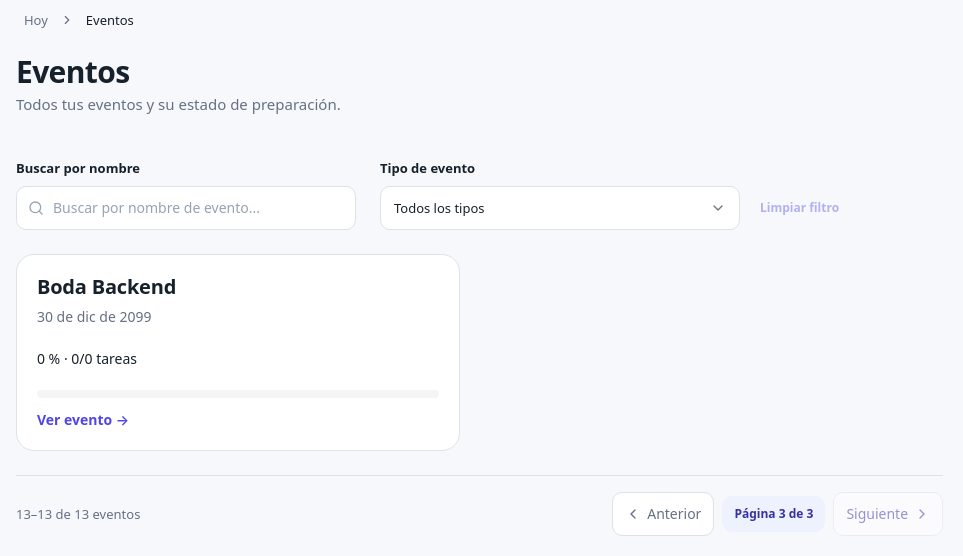
Test: EventsPage › cambiar el tipo reinicia la página y conserva el filtro al paginar
Click the dropdown named "Tipo de evento": (439, 208) 380,186 -> 740,230
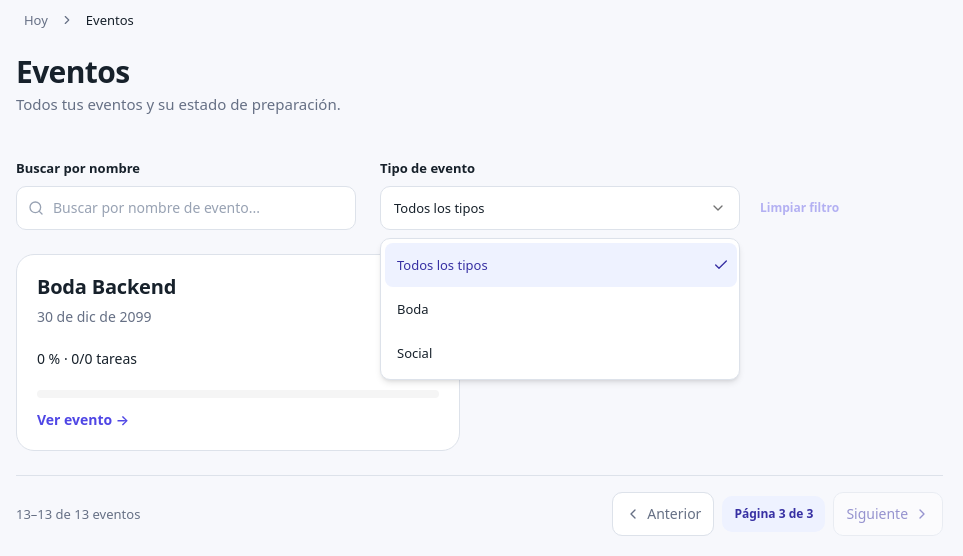
Press Arrowdown
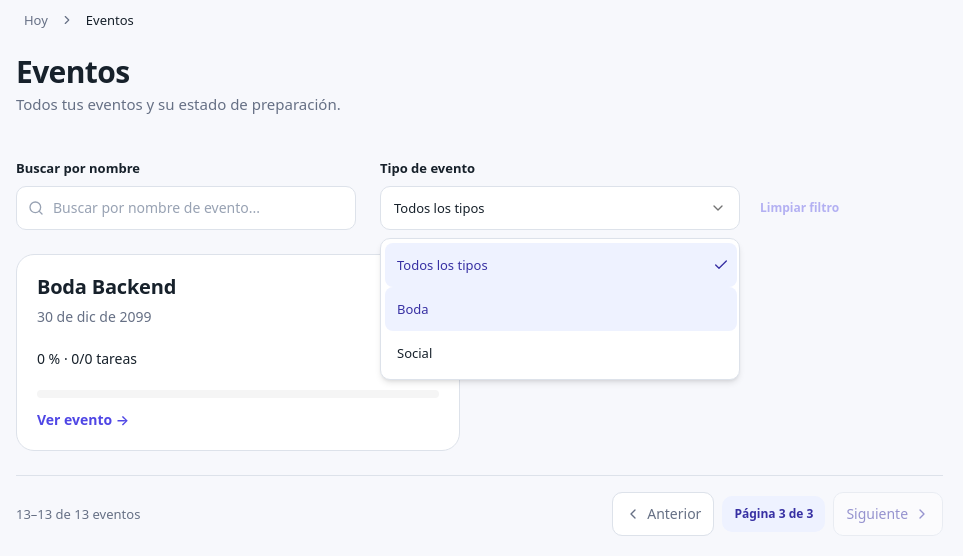
Click the option "Social": (415, 353) 397,344 -> 432,362
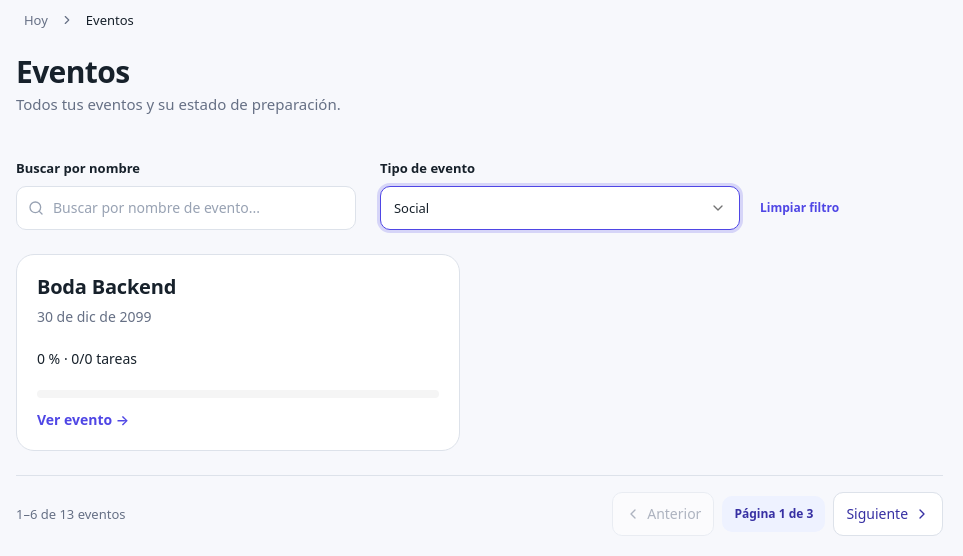
Click the button "Siguiente": (888, 514) 833,492 -> 943,536
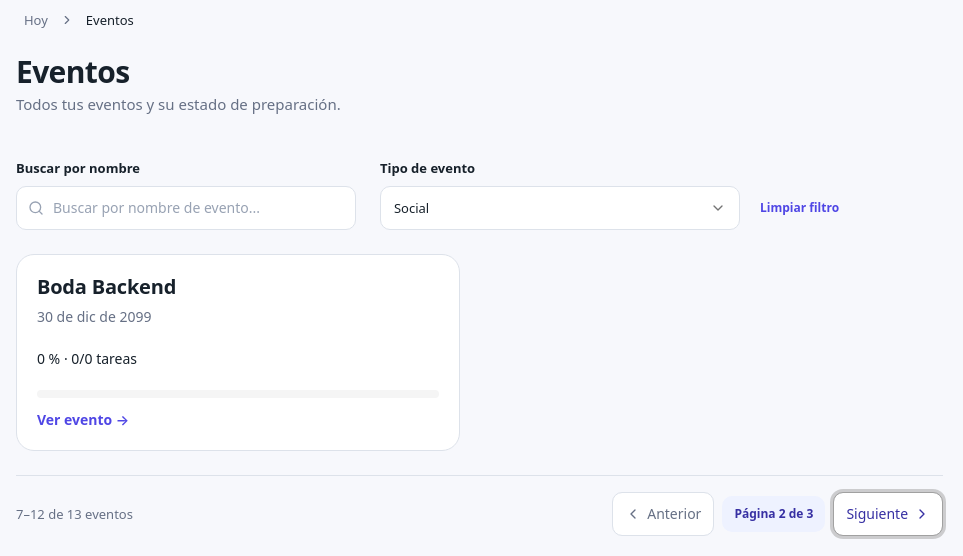
Click the button "Limpiar filtro": (800, 208) 752,186 -> 847,230
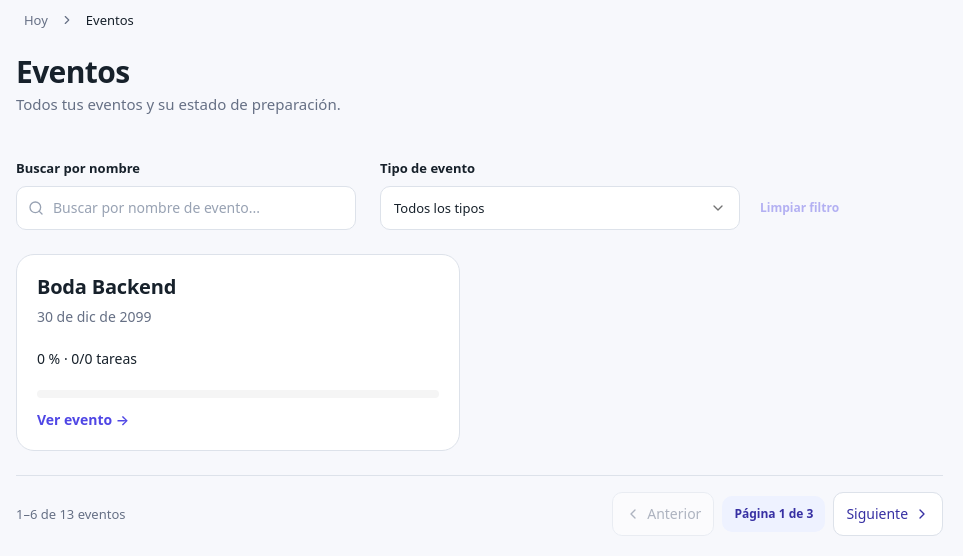
Expected: the dropdown named "Tipo de evento" reads "Todos los tipos", 380,186 -> 740,230
